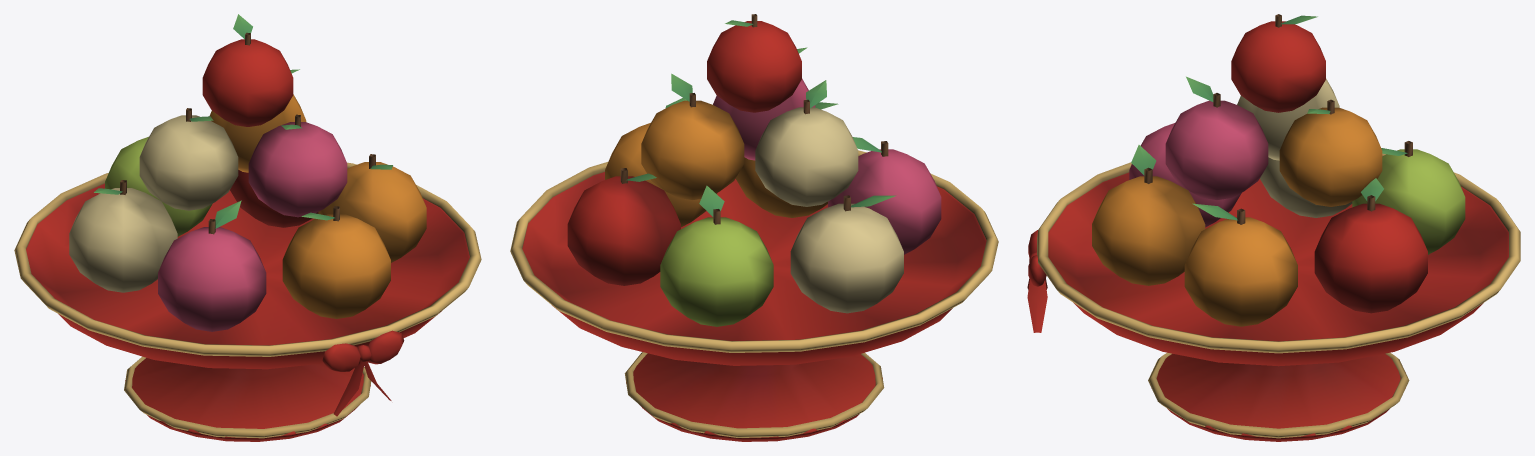
File: mam-qua.glb
3 renders of one model, left to right at view 1: azimuth 30°, elevation 25°; view 2: azimuth 150°, elevation 25°; view 3: azimuth 270°, elevation 25°, orthographic. The views are drawn at different scales.
Visible parts, largest first — view 1: mam-qua; view 2: mam-qua; view 3: mam-qua.
Boxes of the visible parts, box(x1,y1,x2,y2) form: mam-qua: box(14, 14, 481, 441); mam-qua: box(510, 14, 998, 441); mam-qua: box(1027, 14, 1520, 441).
Size of the model in its own units: 0.456 by 0.3917 by 0.4601.
